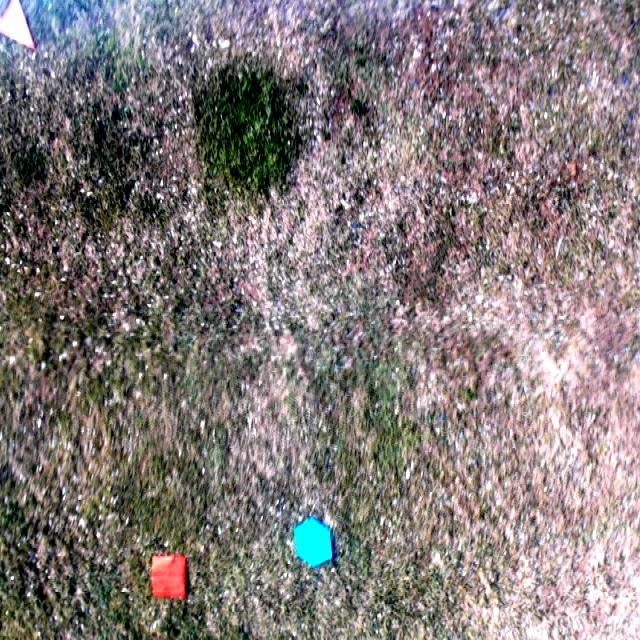blue_hexagon: (295, 518, 333, 570)
red_square: (151, 556, 186, 599)
